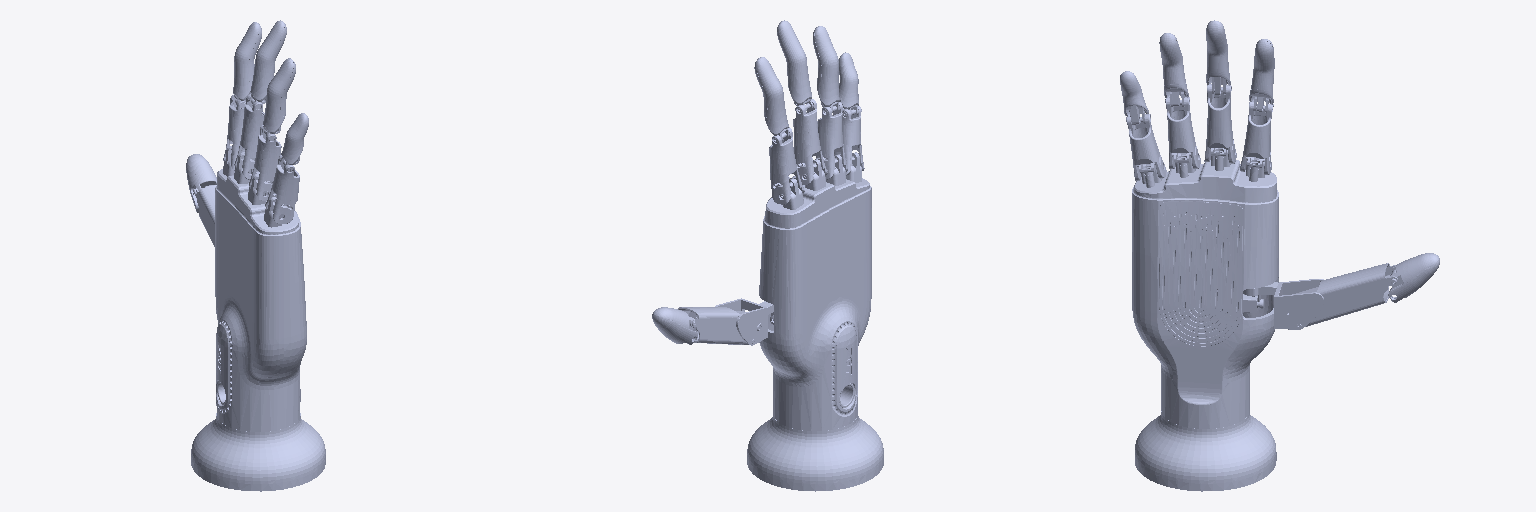
--- What the picture shows (computed from the rendered views, not written in the file) ---
3 views of the same robot in one strip: view 1: azimuth 30°, elevation 25°; view 2: azimuth 150°, elevation 25°; view 3: azimuth 270°, elevation 25° (orthographic).
Robot: roger_hand — 18 links, 17 joints (11 revolute, 6 prismatic); root link base_link; default pose: every joint at zero.
Links seen in each view (by area): view 1: base_link, middle_finger_far_knuckle_link, ring_finger_far_knuckle_link, index_finger_far_knuckle_link, little_finger_near_knuckle_link, ring_finger_near_knuckle_link, middle_finger_near_knuckle_link, little_finger_far_knuckle_link, thumb_2_far_knuckle_link, index_finger_near_knuckle_link, thumb_2_near_knuckle_link; view 2: base_link, thumb_2_near_knuckle_link, middle_finger_far_knuckle_link, middle_finger_near_knuckle_link, ring_finger_far_knuckle_link, index_finger_far_knuckle_link, index_finger_near_knuckle_link, thumb_1_link, ring_finger_near_knuckle_link, thumb_2_far_knuckle_link, little_finger_far_knuckle_link, little_finger_near_knuckle_link; view 3: base_link, thumb_2_near_knuckle_link, thumb_1_link, middle_finger_near_knuckle_link, thumb_2_far_knuckle_link, ring_finger_near_knuckle_link, middle_finger_far_knuckle_link, ring_finger_far_knuckle_link, index_finger_near_knuckle_link, index_finger_far_knuckle_link, little_finger_near_knuckle_link, little_finger_far_knuckle_link.
Link boxes in pixels (<box>): base_link: <box>191,146,325,491</box>; middle_finger_far_knuckle_link: <box>248,20,286,109</box>; ring_finger_far_knuckle_link: <box>262,58,295,140</box>; index_finger_far_knuckle_link: <box>232,22,261,108</box>; little_finger_near_knuckle_link: <box>265,155,299,223</box>; ring_finger_near_knuckle_link: <box>249,125,281,200</box>; middle_finger_near_knuckle_link: <box>234,94,264,179</box>; little_finger_far_knuckle_link: <box>280,113,308,171</box>; thumb_2_far_knuckle_link: <box>186,154,216,212</box>; index_finger_near_knuckle_link: <box>223,95,245,170</box>; thumb_2_near_knuckle_link: <box>194,185,216,246</box>; base_link: <box>747,152,883,491</box>; thumb_2_near_knuckle_link: <box>678,307,761,344</box>; middle_finger_far_knuckle_link: <box>777,20,813,112</box>; middle_finger_near_knuckle_link: <box>793,99,827,184</box>; ring_finger_far_knuckle_link: <box>813,26,839,114</box>; index_finger_far_knuckle_link: <box>754,57,789,142</box>; index_finger_near_knuckle_link: <box>769,127,804,204</box>; thumb_1_link: <box>715,298,773,345</box>; ring_finger_near_knuckle_link: <box>816,102,847,179</box>; thumb_2_far_knuckle_link: <box>652,307,697,344</box>; little_finger_far_knuckle_link: <box>839,52,858,116</box>; little_finger_near_knuckle_link: <box>834,106,864,175</box>; base_link: <box>1132,148,1278,491</box>; thumb_2_near_knuckle_link: <box>1287,263,1397,326</box>; thumb_1_link: <box>1243,279,1323,329</box>; middle_finger_near_knuckle_link: <box>1204,84,1236,163</box>; thumb_2_far_knuckle_link: <box>1388,253,1439,302</box>; ring_finger_near_knuckle_link: <box>1165,97,1200,168</box>; middle_finger_far_knuckle_link: <box>1206,20,1230,95</box>; ring_finger_far_knuckle_link: <box>1159,33,1188,106</box>; index_finger_near_knuckle_link: <box>1240,101,1273,174</box>; index_finger_far_knuckle_link: <box>1249,39,1274,112</box>; little_finger_near_knuckle_link: <box>1126,114,1166,180</box>; little_finger_far_knuckle_link: <box>1120,71,1148,124</box>.
Bounding box of the posed robot: 0.08 × 0.1805 × 0.2827 m (x, y, z).
Meshes: 18 distinct files referenced, 18 mesh visuals loaded (18 binary STL).

robot.urdf — roger_hand:
<?xml version="1.0" encoding="utf-8"?>
<!-- This URDF was automatically created by SolidWorks to URDF Exporter! Originally created by Stephen Brawner ([email redacted]) 
     Commit Version: 1.6.0-4-g7f85cfe  Build Version: 1.6.7995.38578
     For more information, please see http://wiki.ros.org/sw_urdf_exporter -->
<robot
  name="roger_hand">
  <link
    name="base_link">
    <inertial>
      <origin
        xyz="0.000301193114215219 -0.000264421398457275 0.0652369205113283"
        rpy="0 0 0" />
      <mass
        value="0.228872847285847" />
      <inertia
        ixx="0.000222140563333681"
        ixy="-5.51179587321126E-06"
        ixz="4.25109212464053E-06"
        iyy="0.000184277315518036"
        iyz="-2.0490768609154E-06"
        izz="0.0001244247124249" />
    </inertial>
    <visual>
      <origin
        xyz="0 0 0"
        rpy="0 0 0" />
      <geometry>
        <mesh
          filename="package://roger_hand_ros/meshes/base_link.STL" />
      </geometry>
      <material
        name="">
        <color
          rgba="0.792156862745098 0.819607843137255 0.933333333333333 1" />
      </material>
    </visual>
    <collision>
      <origin
        xyz="0 0 0"
        rpy="0 0 0" />
      <geometry>
        <mesh
          filename="package://roger_hand_ros/meshes/base_link.STL" />
      </geometry>
    </collision>
  </link>
  <link
    name="thumb_1_motor_link">
    <inertial>
      <origin
        xyz="-0.00134659150414089 -0.00232830690416286 -0.00101768813498042"
        rpy="0 0 0" />
      <mass
        value="0.000136549603157643" />
      <inertia
        ixx="1.43067553896894E-09"
        ixy="-2.14836068910191E-10"
        ixz="-2.0967911239982E-10"
        iyy="1.18346925465607E-09"
        iyz="-3.6254013632139E-10"
        izz="8.02470711198408E-10" />
    </inertial>
    <visual>
      <origin
        xyz="0 0 0"
        rpy="0 0 0" />
      <geometry>
        <mesh
          filename="package://roger_hand_ros/meshes/thumb_1_motor_link.STL" />
      </geometry>
      <material
        name="">
        <color
          rgba="0.792156862745098 0.819607843137255 0.933333333333333 1" />
      </material>
    </visual>
    <collision>
      <origin
        xyz="0 0 0"
        rpy="0 0 0" />
      <geometry>
        <mesh
          filename="package://roger_hand_ros/meshes/thumb_1_motor_link.STL" />
      </geometry>
    </collision>
  </link>
  <joint
    name="thumb_1_motor_joint"
    type="prismatic">
    <origin
      xyz="0.00931630886065796 0.0299563185120641 0.102471266861136"
      rpy="-1.57079632784218 0.52435399894999 -0.140329226724159" />
    <parent
      link="base_link" />
    <child
      link="thumb_1_motor_link" />
    <axis
      xyz="0 0 -1" />
    <limit
      lower="0"
      upper="0.01"
      effort="70"
      velocity="0.023" />
  </joint>
  <link
    name="index_finger_motor_link">
    <inertial>
      <origin
        xyz="8.66428082058057E-10 -3.16905789804478E-11 0.00895694288074636"
        rpy="0 0 0" />
      <mass
        value="0.000279143293182665" />
      <inertia
        ixx="2.25311096579505E-09"
        ixy="1.53236212486341E-10"
        ixz="-4.61316649584428E-16"
        iyy="3.25250019800376E-09"
        iyz="1.69200276195052E-17"
        izz="2.31951739698569E-09" />
    </inertial>
    <visual>
      <origin
        xyz="0 0 0"
        rpy="0 0 0" />
      <geometry>
        <mesh
          filename="package://roger_hand_ros/meshes/index_finger_motor_link.STL" />
      </geometry>
      <material
        name="">
        <color
          rgba="0.792156862745098 0.819607843137255 0.933333333333333 1" />
      </material>
    </visual>
    <collision>
      <origin
        xyz="0 0 0"
        rpy="0 0 0" />
      <geometry>
        <mesh
          filename="package://roger_hand_ros/meshes/index_finger_motor_link.STL" />
      </geometry>
    </collision>
  </link>
  <joint
    name="index_finger_motor_joint"
    type="prismatic">
    <origin
      xyz="0.00667213455302509 0.0268699837382682 0.175548492534744"
      rpy="-0.0220810428210388 -0.0849339854195388 -1.56714081321017" />
    <parent
      link="base_link" />
    <child
      link="index_finger_motor_link" />
    <axis
      xyz="-0.25410802663088 0.0507085079778244 -0.965845618109035" />
    <limit
      lower="0"
      upper="0.01"
      effort="70"
      velocity="0.023" />
  </joint>
  <link
    name="middle_finger_motor_link">
    <inertial>
      <origin
        xyz="8.84129401634848E-10 -2.98818469968154E-11 0.00895694285323655"
        rpy="0 0 0" />
      <mass
        value="0.00027914329153844" />
      <inertia
        ixx="2.25216519988671E-09"
        ixy="1.50117460686703E-10"
        ixz="-4.6197078484194E-16"
        iyy="3.253445950516E-09"
        iyz="1.56606257616648E-17"
        izz="2.3195173797262E-09" />
    </inertial>
    <visual>
      <origin
        xyz="0 0 0"
        rpy="0 0 0" />
      <geometry>
        <mesh
          filename="package://roger_hand_ros/meshes/middle_finger_motor_link.STL" />
      </geometry>
      <material
        name="">
        <color
          rgba="0.792156862745098 0.819607843137255 0.933333333333333 1" />
      </material>
    </visual>
    <collision>
      <origin
        xyz="0 0 0"
        rpy="0 0 0" />
      <geometry>
        <mesh
          filename="package://roger_hand_ros/meshes/middle_finger_motor_link.STL" />
      </geometry>
    </collision>
  </link>
  <joint
    name="middle_finger_motor_joint"
    type="prismatic">
    <origin
      xyz="0.00245528359604117 0.00770352323916319 0.180400049666745"
      rpy="0 0 -1.57079445110126" />
    <parent
      link="base_link" />
    <child
      link="middle_finger_motor_link" />
    <axis
      xyz="0 0 -1" />
    <limit
      lower="0"
      upper="0.01"
      effort="70"
      velocity="0.023" />
  </joint>
  <link
    name="ring_finger_motor_link">
    <inertial>
      <origin
        xyz="9.0514886211257E-10 -3.04224978542322E-11 0.00895694281253499"
        rpy="0 0 0" />
      <mass
        value="0.000279143289517526" />
      <inertia
        ixx="2.25200557117849E-09"
        ixy="1.49584078143445E-10"
        ixz="-4.69268853648811E-16"
        iyy="3.25360555246191E-09"
        iyz="1.57839057166933E-17"
        izz="2.31951735934725E-09" />
    </inertial>
    <visual>
      <origin
        xyz="0 0 0"
        rpy="0 0 0" />
      <geometry>
        <mesh
          filename="package://roger_hand_ros/meshes/ring_finger_motor_link.STL" />
      </geometry>
      <material
        name="">
        <color
          rgba="0.792156862745098 0.819607843137255 0.933333333333333 1" />
      </material>
    </visual>
    <collision>
      <origin
        xyz="0 0 0"
        rpy="0 0 0" />
      <geometry>
        <mesh
          filename="package://roger_hand_ros/meshes/ring_finger_motor_link.STL" />
      </geometry>
    </collision>
  </link>
  <joint
    name="ring_finger_motor_joint"
    type="prismatic">
    <origin
      xyz="0.000989608862751734 -0.011866526598417 0.175548493891005"
      rpy="0.00353236602410263 0.0876796909025306 -1.57076973173837" />
    <parent
      link="base_link" />
    <child
      link="ring_finger_motor_link" />
    <axis
      xyz="0 0 -1" />
    <limit
      lower="0"
      upper="0.01"
      effort="70"
      velocity="0.023" />
  </joint>
  <link
    name="little_finger_motor_link">
    <inertial>
      <origin
        xyz="9.24312123368187E-10 -3.22243169648129E-11 0.00895694276319375"
        rpy="0 0 0" />
      <mass
        value="0.000279143287608689" />
      <inertia
        ixx="2.25230612319198E-09"
        ixy="1.50586689859279E-10"
        ixz="-4.87116646461309E-16"
        iyy="3.25330495748556E-09"
        iyz="1.6974459438383E-17"
        izz="2.31951734092572E-09" />
    </inertial>
    <visual>
      <origin
        xyz="0 0 0"
        rpy="0 0 0" />
      <geometry>
        <mesh
          filename="package://roger_hand_ros/meshes/little_finger_motor_link.STL" />
      </geometry>
      <material
        name="">
        <color
          rgba="0.792156862745098 0.819607843137255 0.933333333333333 1" />
      </material>
    </visual>
    <collision>
      <origin
        xyz="0 0 0"
        rpy="0 0 0" />
      <geometry>
        <mesh
          filename="package://roger_hand_ros/meshes/little_finger_motor_link.STL" />
      </geometry>
    </collision>
  </link>
  <joint
    name="little_finger_motor_joint"
    type="prismatic">
    <origin
      xyz="0.000382261342643034 -0.0304107417018537 0.169122906472072"
      rpy="0.029207745570334 0.172132987369209 -1.56811868222672" />
    <parent
      link="base_link" />
    <child
      link="little_finger_motor_link" />
    <axis
      xyz="0 0 -1" />
    <limit
      lower="0"
      upper="0.01"
      effort="70"
      velocity="0.023" />
  </joint>
  <link
    name="thumb_1_link">
    <inertial>
      <origin
        xyz="-0.0179027439802645 -0.00369579814016622 -0.000141795697264413"
        rpy="0 0 0" />
      <mass
        value="0.00276397506592165" />
      <inertia
        ixx="2.89622691163446E-07"
        ixy="-9.44279430523408E-08"
        ixz="2.48618327747114E-08"
        iyy="4.58530995285368E-07"
        iyz="1.88418472275805E-08"
        izz="5.57264544001481E-07" />
    </inertial>
    <visual>
      <origin
        xyz="0 0 0"
        rpy="0 0 0" />
      <geometry>
        <mesh
          filename="package://roger_hand_ros/meshes/thumb_1_link.STL" />
      </geometry>
      <material
        name="">
        <color
          rgba="0.792156862745098 0.819607843137255 0.933333333333333 1" />
      </material>
    </visual>
    <collision>
      <origin
        xyz="0 0 0"
        rpy="0 0 0" />
      <geometry>
        <mesh
          filename="package://roger_hand_ros/meshes/thumb_1_link.STL" />
      </geometry>
    </collision>
  </link>
  <joint
    name="thumb_1_joint"
    type="revolute">
    <origin
      xyz="0.0132254533115971 0.0271360397292781 0.108531267532083"
      rpy="-3.14159249850664 0 -1.5707944097144" />
    <parent
      link="base_link" />
    <child
      link="thumb_1_link" />
    <axis
      xyz="0 0 -1" />
    <limit
      lower="0"
      upper="0"
      effort="0"
      velocity="0" />
    <mimic
      joint="thumb_1_motor_joint"
      multiplier="-157"
      offset="0" />
  </joint>
  <link
    name="thumb_2_near_knuckle_link">
    <inertial>
      <origin
        xyz="-0.0238790005730153 0.00540353393523721 -0.00783477106592339"
        rpy="0 0 0" />
      <mass
        value="0.0103593890053803" />
      <inertia
        ixx="7.11776108669314E-07"
        ixy="7.23223676216444E-07"
        ixz="4.17631168543445E-13"
        iyy="2.41258997666417E-06"
        iyz="-4.42351755837649E-13"
        izz="2.73517270654393E-06" />
    </inertial>
    <visual>
      <origin
        xyz="0 0 0"
        rpy="0 0 0" />
      <geometry>
        <mesh
          filename="package://roger_hand_ros/meshes/thumb_2_near_knuckle_link.STL" />
      </geometry>
      <material
        name="">
        <color
          rgba="0.792156862745098 0.819607843137255 0.933333333333333 1" />
      </material>
    </visual>
    <collision>
      <origin
        xyz="0 0 0"
        rpy="0 0 0" />
      <geometry>
        <mesh
          filename="package://roger_hand_ros/meshes/thumb_2_near_knuckle_link.STL" />
      </geometry>
    </collision>
  </link>
  <joint
    name="thumb_2_near_knuckle_joint"
    type="revolute">
    <origin
      xyz="-0.021965 0.0012073 0.00336"
      rpy="-1.5708 -0.08158 0.14566" />
    <parent
      link="thumb_1_link" />
    <child
      link="thumb_2_near_knuckle_link" />
    <axis
      xyz="0 0 -1" />
    <limit
      lower="0"
      upper="0"
      effort="0"
      velocity="0" />
    <mimic
      joint="thumb_2_motor_joint"
      multiplier="105"
      offset="0" />
  </joint>
  <link
    name="thumb_2_far_knuckle_link">
    <inertial>
      <origin
        xyz="-0.0103926992843134 -0.000408082582531166 -0.00826651673655104"
        rpy="0 0 0" />
      <mass
        value="0.00539379857072937" />
      <inertia
        ixx="2.17294641475427E-07"
        ixy="-7.81195989901626E-08"
        ixz="-1.79125851265764E-09"
        iyy="2.97473681793062E-07"
        iyz="-1.55707780087871E-09"
        izz="3.08399837830599E-07" />
    </inertial>
    <visual>
      <origin
        xyz="0 0 0"
        rpy="0 0 0" />
      <geometry>
        <mesh
          filename="package://roger_hand_ros/meshes/thumb_2_far_knuckle_link.STL" />
      </geometry>
      <material
        name="">
        <color
          rgba="0.792156862745098 0.819607843137255 0.933333333333333 1" />
      </material>
    </visual>
    <collision>
      <origin
        xyz="0 0 0"
        rpy="0 0 0" />
      <geometry>
        <mesh
          filename="package://roger_hand_ros/meshes/thumb_2_far_knuckle_link.STL" />
      </geometry>
    </collision>
  </link>
  <joint
    name="thumb_2_far_knuckle_joint"
    type="revolute">
    <origin
      xyz="-0.061575 0.018898 -0.01544"
      rpy="-3.1416 0 0" />
    <parent
      link="thumb_2_near_knuckle_link" />
    <child
      link="thumb_2_far_knuckle_link" />
    <axis
      xyz="0 0 -1" />
    <limit
      lower="0"
      upper="0"
      effort="0"
      velocity="0" />
    <mimic
      joint="thumb_2_motor_joint"
      multiplier="-105"
      offset="0" />
  </joint>
  <link
    name="thumb_2_motor_link">
    <inertial>
      <origin
        xyz="2.38588340140122E-07 -1.08581721502965E-07 0.0108081384520814"
        rpy="0 0 0" />
      <mass
        value="0.000110785147622986" />
      <inertia
        ixx="1.05530608724829E-09"
        ixy="-2.43433727438706E-11"
        ixz="-1.67072424155045E-16"
        iyy="1.01864484554244E-09"
        iyz="9.28259977414862E-16"
        izz="4.20185598584072E-10" />
    </inertial>
    <visual>
      <origin
        xyz="0 0 0"
        rpy="0 0 0" />
      <geometry>
        <mesh
          filename="package://roger_hand_ros/meshes/thumb_2_motor_link.STL" />
      </geometry>
      <material
        name="">
        <color
          rgba="0.792156862745098 0.819607843137255 0.933333333333333 1" />
      </material>
    </visual>
    <collision>
      <origin
        xyz="0 0 0"
        rpy="0 0 0" />
      <geometry>
        <mesh
          filename="package://roger_hand_ros/meshes/thumb_2_motor_link.STL" />
      </geometry>
    </collision>
  </link>
  <joint
    name="thumb_2_motor_joint"
    type="prismatic">
    <origin
      xyz="-0.04971 0.01526 -0.00822"
      rpy="-1.5708 0.46272 1.2733" />
    <parent
      link="thumb_2_near_knuckle_link" />
    <child
      link="thumb_2_motor_link" />
    <axis
      xyz="0 0 -1" />
    <limit
      lower="0"
      upper="0.01"
      effort="70"
      velocity="0.023" />
  </joint>
  <link
    name="index_finger_near_knuckle_link">
    <inertial>
      <origin
        xyz="-0.00886180601732879 -0.0120472731806973 -0.00649946214559654"
        rpy="0 0 0" />
      <mass
        value="0.00232887526351644" />
      <inertia
        ixx="2.27755429460998E-07"
        ixy="-1.26042214152932E-07"
        ixz="1.5896521650996E-11"
        iyy="2.37501968252865E-07"
        iyz="3.55330286663986E-11"
        izz="3.34507085242655E-07" />
    </inertial>
    <visual>
      <origin
        xyz="0 0 0"
        rpy="0 0 0" />
      <geometry>
        <mesh
          filename="package://roger_hand_ros/meshes/index_finger_near_knuckle_link.STL" />
      </geometry>
      <material
        name="">
        <color
          rgba="0.792156862745098 0.819607843137255 0.933333333333333 1" />
      </material>
    </visual>
    <collision>
      <origin
        xyz="0 0 0"
        rpy="0 0 0" />
      <geometry>
        <mesh
          filename="package://roger_hand_ros/meshes/index_finger_near_knuckle_link.STL" />
      </geometry>
    </collision>
  </link>
  <joint
    name="index_finger_near_knuckle_joint"
    type="revolute">
    <origin
      xyz="0.0014743 0.035144 0.18594"
      rpy="-1.7033 0.8504 -0.2455" />
    <parent
      link="base_link" />
    <child
      link="index_finger_near_knuckle_link" />
    <axis
      xyz="0 0 -1" />
    <limit
      lower="0"
      upper="0"
      effort="0"
      velocity="0" />
    <mimic
      joint="index_finger_motor_joint"
      multiplier="-122"
      offset="0" />
  </joint>
  <link
    name="index_finger_far_knuckle_link">
    <inertial>
      <origin
        xyz="-0.0145411575190943 -0.020044494822137 -0.00499967524800357"
        rpy="0 0 0" />
      <mass
        value="0.00447951464772177" />
      <inertia
        ixx="4.08823082200722E-07"
        ixy="-2.671868762657E-07"
        ixz="3.58080808557165E-11"
        iyy="2.72480810951254E-07"
        iyz="5.0998825926568E-11"
        izz="6.00693644933007E-07" />
    </inertial>
    <visual>
      <origin
        xyz="0 0 0"
        rpy="0 0 0" />
      <geometry>
        <mesh
          filename="package://roger_hand_ros/meshes/index_finger_far_knuckle_link.STL" />
      </geometry>
      <material
        name="">
        <color
          rgba="0.792156862745098 0.819607843137255 0.933333333333333 1" />
      </material>
    </visual>
    <collision>
      <origin
        xyz="0 0 0"
        rpy="0 0 0" />
      <geometry>
        <mesh
          filename="package://roger_hand_ros/meshes/index_finger_far_knuckle_link.STL" />
      </geometry>
    </collision>
  </link>
  <joint
    name="index_finger_far_knuckle_joint"
    type="revolute">
    <origin
      xyz="-0.024702898060906 -0.02618785959469 -0.0015"
      rpy="0 0 0" />
    <parent
      link="index_finger_near_knuckle_link" />
    <child
      link="index_finger_far_knuckle_link" />
    <axis
      xyz="0 0 -1" />
    <limit
      lower="0"
      upper="0"
      effort="0"
      velocity="0" />
    <mimic
      joint="index_finger_motor_joint"
      multiplier="-105"
      offset="0" />
  </joint>
  <link
    name="middle_finger_near_knuckle_link">
    <inertial>
      <origin
        xyz="-0.00475231884957457 -0.0167727486935927 -0.00649836729381627"
        rpy="0 0 0" />
      <mass
        value="0.00261246564300185" />
      <inertia
        ixx="4.21456211454973E-07"
        ixy="-1.40140303494931E-07"
        ixz="-3.23982296849986E-14"
        iyy="1.8096976541724E-07"
        iyz="1.26088934321041E-12"
        izz="4.61903408062542E-07" />
    </inertial>
    <visual>
      <origin
        xyz="0 0 0"
        rpy="0 0 0" />
      <geometry>
        <mesh
          filename="package://roger_hand_ros/meshes/middle_finger_near_knuckle_link.STL" />
      </geometry>
      <material
        name="">
        <color
          rgba="0.792156862745098 0.819607843137255 0.933333333333333 1" />
      </material>
    </visual>
    <collision>
      <origin
        xyz="0 0 0"
        rpy="0 0 0" />
      <geometry>
        <mesh
          filename="package://roger_hand_ros/meshes/middle_finger_near_knuckle_link.STL" />
      </geometry>
    </collision>
  </link>
  <joint
    name="middle_finger_near_knuckle_joint"
    type="revolute">
    <origin
      xyz="-0.0024036 0.014986 0.1914"
      rpy="-1.5708 0.50846 -0.14566" />
    <parent
      link="base_link" />
    <child
      link="middle_finger_near_knuckle_link" />
    <axis
      xyz="0 0 -1" />
    <limit
      lower="0"
      upper="0"
      effort="0"
      velocity="0" />
    <mimic
      joint="middle_finger_motor_joint"
      multiplier="-122"
      offset="0" />
  </joint>
  <link
    name="middle_finger_far_knuckle_link">
    <inertial>
      <origin
        xyz="-0.00542945949936143 -0.0260116138840891 -0.0049989385672811"
        rpy="0 0 0" />
      <mass
        value="0.00471669892863847" />
      <inertia
        ixx="6.60428864263132E-07"
        ixy="-1.26642263408953E-07"
        ixz="8.29301058421921E-14"
        iyy="8.98438879567073E-08"
        iyz="1.57256966368377E-12"
        izz="6.66590531334071E-07" />
    </inertial>
    <visual>
      <origin
        xyz="0 0 0"
        rpy="0 0 0" />
      <geometry>
        <mesh
          filename="package://roger_hand_ros/meshes/middle_finger_far_knuckle_link.STL" />
      </geometry>
      <material
        name="">
        <color
          rgba="0.792156862745098 0.819607843137255 0.933333333333333 1" />
      </material>
    </visual>
    <collision>
      <origin
        xyz="0 0 0"
        rpy="0 0 0" />
      <geometry>
        <mesh
          filename="package://roger_hand_ros/meshes/middle_finger_far_knuckle_link.STL" />
      </geometry>
    </collision>
  </link>
  <joint
    name="middle_finger_far_knuckle_joint"
    type="revolute">
    <origin
      xyz="-0.015144444197219 -0.038100471452594 -0.00150000270158999"
      rpy="0 0 0" />
    <parent
      link="middle_finger_near_knuckle_link" />
    <child
      link="middle_finger_far_knuckle_link" />
    <axis
      xyz="0 0 -1" />
    <limit
      lower="0"
      upper="0"
      effort="0"
      velocity="0" />
    <mimic
      joint="middle_finger_motor_joint"
      multiplier="-105"
      offset="0" />
  </joint>
  <link
    name="ring_finger_near_knuckle_link">
    <inertial>
      <origin
        xyz="0.00383648980211888 -0.0144549680793483 -0.00649942159396797"
        rpy="0 0 0" />
      <mass
        value="0.00232884525856955" />
      <inertia
        ixx="3.56774089298551E-07"
        ixy="2.23141016975735E-08"
        ixz="-1.8205609444457E-11"
        iyy="1.08481186974095E-07"
        iyz="3.61307577646371E-11"
        izz="3.34505755668309E-07" />
    </inertial>
    <visual>
      <origin
        xyz="0 0 0"
        rpy="0 0 0" />
      <geometry>
        <mesh
          filename="package://roger_hand_ros/meshes/ring_finger_near_knuckle_link.STL" />
      </geometry>
      <material
        name="">
        <color
          rgba="0.792156862745098 0.819607843137255 0.933333333333333 1" />
      </material>
    </visual>
    <collision>
      <origin
        xyz="0 0 0"
        rpy="0 0 0" />
      <geometry>
        <mesh
          filename="package://roger_hand_ros/meshes/ring_finger_near_knuckle_link.STL" />
      </geometry>
    </collision>
  </link>
  <joint
    name="ring_finger_near_knuckle_joint"
    type="revolute">
    <origin
      xyz="-0.0044866 -0.0054897 0.18708"
      rpy="-1.4835 -0.038725 -0.14905" />
    <parent
      link="base_link" />
    <child
      link="ring_finger_near_knuckle_link" />
    <axis
      xyz="0 0 -1" />
    <limit
      lower="0"
      upper="0"
      effort="0"
      velocity="0" />
    <mimic
      joint="ring_finger_motor_joint"
      multiplier="-122"
      offset="0" />
  </joint>
  <link
    name="ring_finger_far_knuckle_link">
    <inertial>
      <origin
        xyz="0.0065106139508526 -0.0238922175358328 -0.00499970206022921"
        rpy="0 0 0" />
      <mass
        value="0.00447950911474519" />
      <inertia
        ixx="5.86959864149773E-07"
        ixy="1.23970714130716E-07"
        ixz="-1.72142001905806E-11"
        iyy="9.43441200294128E-08"
        iyz="5.93884522356434E-11"
        izz="6.00694159987526E-07" />
    </inertial>
    <visual>
      <origin
        xyz="0 0 0"
        rpy="0 0 0" />
      <geometry>
        <mesh
          filename="package://roger_hand_ros/meshes/ring_finger_far_knuckle_link.STL" />
      </geometry>
      <material
        name="">
        <color
          rgba="0.792156862745098 0.819607843137255 0.933333333333333 1" />
      </material>
    </visual>
    <collision>
      <origin
        xyz="0 0 0"
        rpy="0 0 0" />
      <geometry>
        <mesh
          filename="package://roger_hand_ros/meshes/ring_finger_far_knuckle_link.STL" />
      </geometry>
    </collision>
  </link>
  <joint
    name="ring_finger_far_knuckle_joint"
    type="revolute">
    <origin
      xyz="0.00493135252937275 -0.0356611683065735 -0.0015"
      rpy="0 0 0" />
    <parent
      link="ring_finger_near_knuckle_link" />
    <child
      link="ring_finger_far_knuckle_link" />
    <axis
      xyz="0 0 -1" />
    <limit
      lower="0"
      upper="0"
      effort="0"
      velocity="0" />
    <mimic
      joint="ring_finger_motor_joint"
      multiplier="-105"
      offset="0" />
  </joint>
  <link
    name="little_finger_near_knuckle_link">
    <inertial>
      <origin
        xyz="0.00949162035820438 -0.00869370523685226 -0.00651346901748739"
        rpy="0 0 0" />
      <mass
        value="0.002089014936028" />
      <inertia
        ixx="2.11796277012887E-07"
        ixy="8.46611462683513E-08"
        ixz="3.79992639520792E-12"
        iyy="1.60572286398938E-07"
        iyz="-4.75325440366702E-12"
        izz="2.49353803545383E-07" />
    </inertial>
    <visual>
      <origin
        xyz="0 0 0"
        rpy="0 0 0" />
      <geometry>
        <mesh
          filename="package://roger_hand_ros/meshes/little_finger_near_knuckle_link.STL" />
      </geometry>
      <material
        name="">
        <color
          rgba="0.792156862745098 0.819607843137255 0.933333333333333 1" />
      </material>
    </visual>
    <collision>
      <origin
        xyz="0 0 0"
        rpy="0 0 0" />
      <geometry>
        <mesh
          filename="package://roger_hand_ros/meshes/little_finger_near_knuckle_link.STL" />
      </geometry>
    </collision>
  </link>
  <joint
    name="little_finger_near_knuckle_joint"
    type="revolute">
    <origin
      xyz="-0.00458180347035023 -0.0251271893815939 0.181087558188147"
      rpy="-1.36489905599673 -0.556022217685395 -0.255451898886551" />
    <parent
      link="base_link" />
    <child
      link="little_finger_near_knuckle_link" />
    <axis
      xyz="0 0 -1" />
    <limit
      lower="0"
      upper="0"
      effort="0"
      velocity="0" />
    <mimic
      joint="little_finger_motor_joint"
      multiplier="-122"
      offset="0" />
  </joint>
  <link
    name="little_finger_far_knuckle_link">
    <inertial>
      <origin
        xyz="0.0125584145316533 -0.0118635335183287 -0.00499792760768738"
        rpy="0 0 0" />
      <mass
        value="0.00249846166414677" />
      <inertia
        ixx="9.78368107465239E-08"
        ixy="6.35156741038364E-08"
        ixz="-8.20409700469597E-13"
        iyy="9.18741283417871E-08"
        iyz="-1.72642577256669E-12"
        izz="1.48500034918474E-07" />
    </inertial>
    <visual>
      <origin
        xyz="0 0 0"
        rpy="0 0 0" />
      <geometry>
        <mesh
          filename="package://roger_hand_ros/meshes/little_finger_far_knuckle_link.STL" />
      </geometry>
      <material
        name="">
        <color
          rgba="0.792156862745098 0.819607843137255 0.933333333333333 1" />
      </material>
    </visual>
    <collision>
      <origin
        xyz="0 0 0"
        rpy="0 0 0" />
      <geometry>
        <mesh
          filename="package://roger_hand_ros/meshes/little_finger_far_knuckle_link.STL" />
      </geometry>
    </collision>
  </link>
  <joint
    name="little_finger_far_knuckle_joint"
    type="revolute">
    <origin
      xyz="0.020319737968706 -0.0247206162441643 -0.00151626780947"
      rpy="0 0 0" />
    <parent
      link="little_finger_near_knuckle_link" />
    <child
      link="little_finger_far_knuckle_link" />
    <axis
      xyz="0 0 -1" />
    <limit
      lower="0"
      upper="0"
      effort="0"
      velocity="0" />
    <mimic
      joint="little_finger_motor_joint"
      multiplier="-105"
      offset="0" />
  </joint>
</robot>
